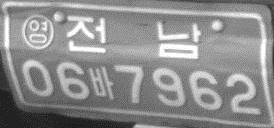0: (21, 58, 53, 97)
2: (225, 73, 260, 115)
6: (188, 68, 222, 112), (55, 62, 89, 100)
7: (115, 65, 144, 104)
9: (151, 66, 185, 108)
바: (89, 66, 114, 102)
영: (21, 13, 54, 50)
전남_D: (66, 14, 201, 60)
